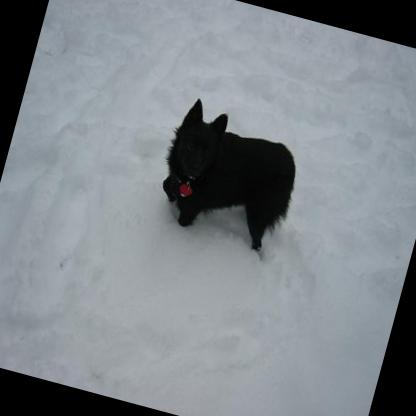schipperke: (144, 83, 314, 260)
